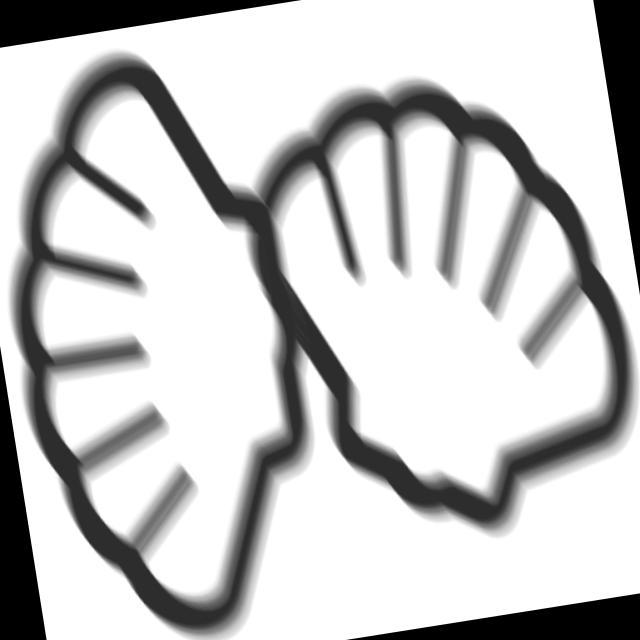shell: (208, 35, 640, 581), (1, 21, 357, 640)
